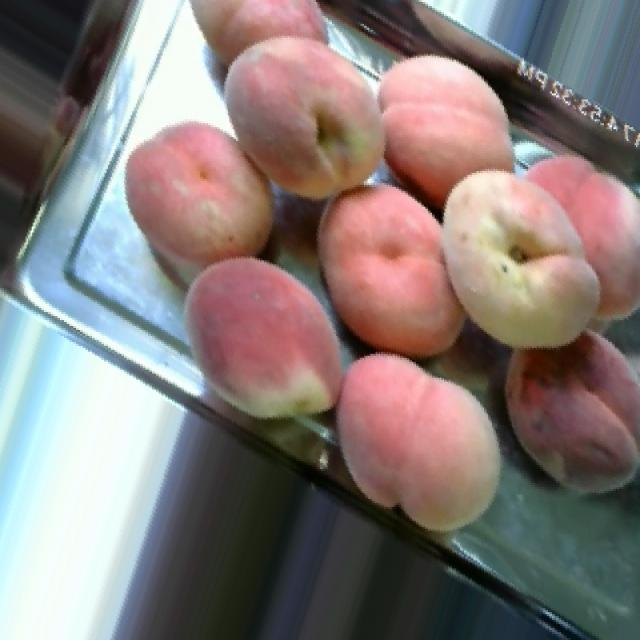Fruit: (300, 324, 535, 560), (423, 135, 633, 380), (156, 239, 380, 453), (198, 2, 402, 221), (294, 159, 482, 388), (472, 300, 640, 517), (104, 102, 300, 278), (362, 32, 538, 225)
